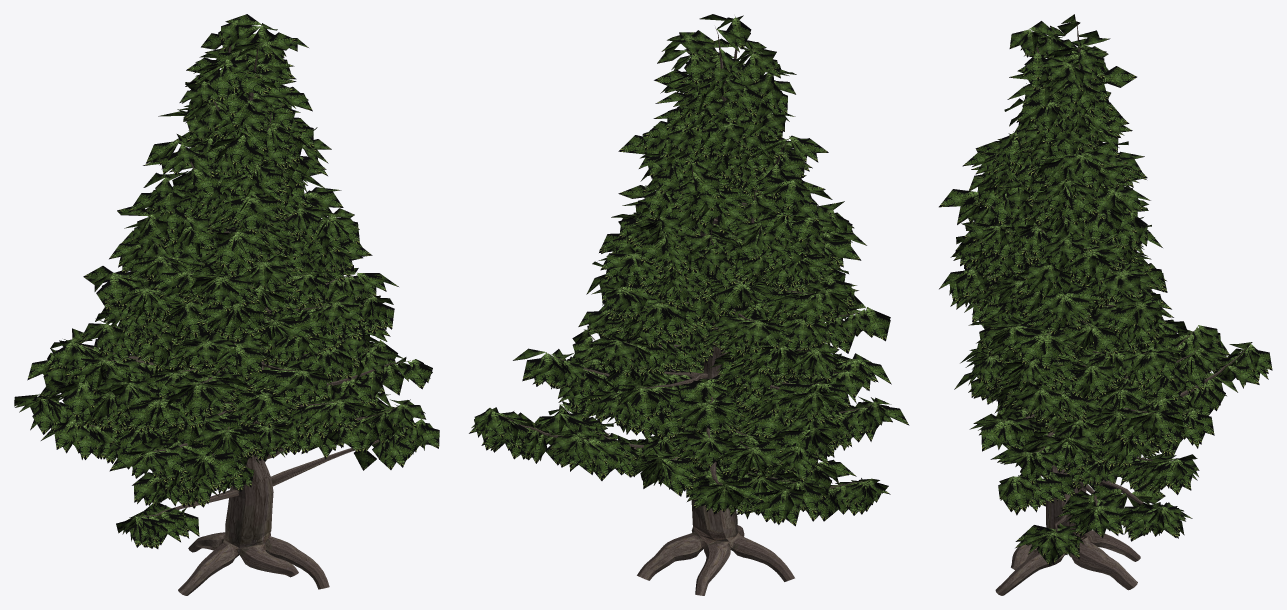
Rendered from needle9.obj.
The picture shows the model from 3 angles, left to right: view 1: azimuth 30°, elevation 25°; view 2: azimuth 150°, elevation 25°; view 3: azimuth 270°, elevation 25°; orthographic projection.
Parts seen in each view (by area): view 1: (null); view 2: (null); view 3: (null).
Part boxes in pixels (bbox=[...]): (null): bbox=[14, 14, 439, 595]; (null): bbox=[469, 14, 909, 595]; (null): bbox=[939, 14, 1272, 595].
Size of the model in its own units: 1015 by 1484 by 811.
5 materials, 4 textured.
